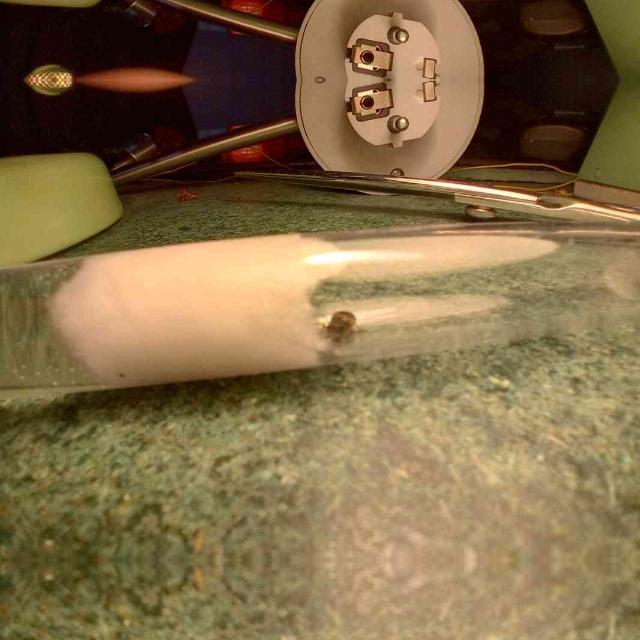Lasius: (317, 302, 361, 348)
